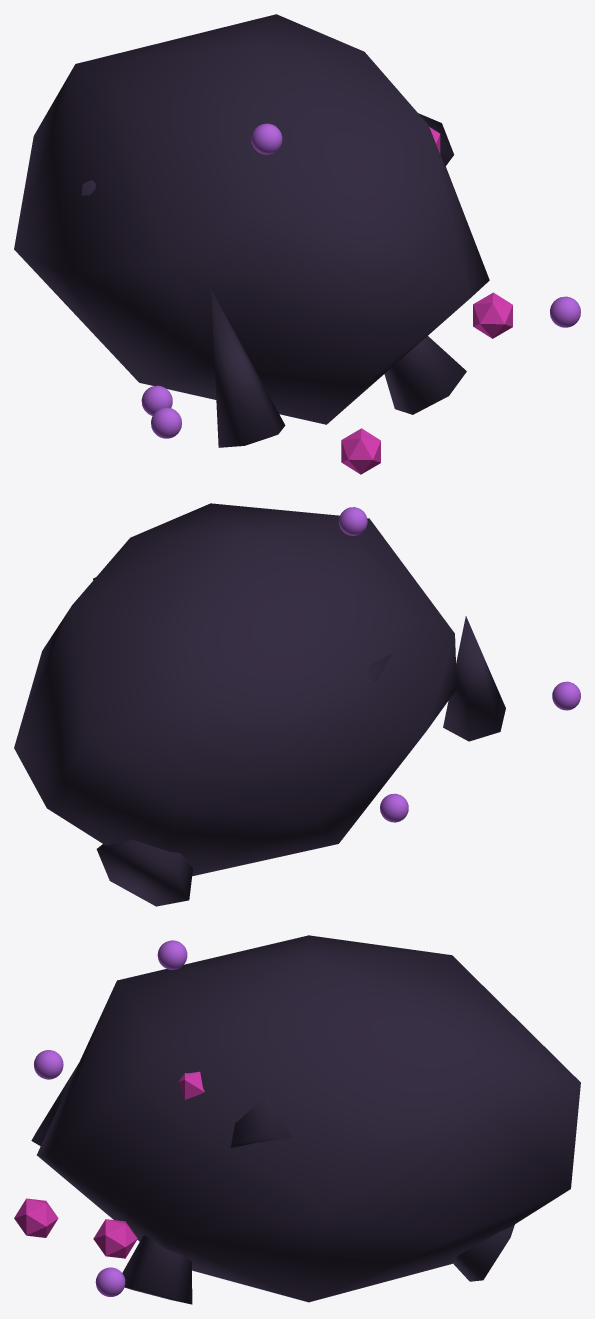
File: 13_obstaculo_abissal.obj
3 renders of one model, top to bottom at view 1: azimuth 30°, elevation 25°; view 2: azimuth 150°, elevation 25°; view 3: azimuth 270°, elevation 25°, orthographic. The views are drawn at different scales.
Visible parts, largest first — view 1: Icosphere, Cone.004, Cone.003, Icosphere.006, Icosphere.005, Sphere.001, Sphere.002, Sphere.003, Sphere; view 2: Icosphere, Cone, Cone.004, Sphere, Sphere.003, Sphere.001; view 3: Icosphere, Cone.003, Cone.002, Cone, Icosphere.006, Icosphere.005, Sphere.001, Sphere.002, Sphere.003, Cone.004, Icosphere.004.
Boxes of the visible parts, box(x1,y1,x2,y2) form: Icosphere: box(14, 14, 489, 424); Cone.004: box(211, 289, 285, 447); Cone.003: box(384, 336, 466, 414); Icosphere.006: box(341, 428, 380, 474); Icosphere.005: box(473, 292, 512, 338); Sphere.001: box(251, 123, 282, 154); Sphere.002: box(550, 296, 580, 327); Sphere.003: box(151, 407, 181, 438); Sphere: box(141, 385, 172, 415); Icosphere: box(14, 503, 456, 876); Cone: box(96, 839, 192, 906); Cone.004: box(443, 616, 505, 741); Sphere: box(380, 793, 408, 822); Sphere.003: box(552, 681, 580, 710); Sphere.001: box(338, 507, 367, 535); Icosphere: box(37, 935, 580, 1302); Cone.003: box(122, 1235, 192, 1304); Cone.002: box(230, 1095, 292, 1148); Cone: box(453, 1224, 514, 1281); Icosphere.006: box(14, 1198, 58, 1237); Icosphere.005: box(93, 1219, 137, 1258); Sphere.001: box(157, 940, 187, 969); Sphere.002: box(95, 1267, 125, 1296); Sphere.003: box(34, 1050, 63, 1079); Cone.004: box(31, 1063, 78, 1145); Icosphere.004: box(178, 1071, 204, 1099).
Bounding box in the file's own units: 2.03 × 1.45 × 2.29.
16 materials, 16 textured.
